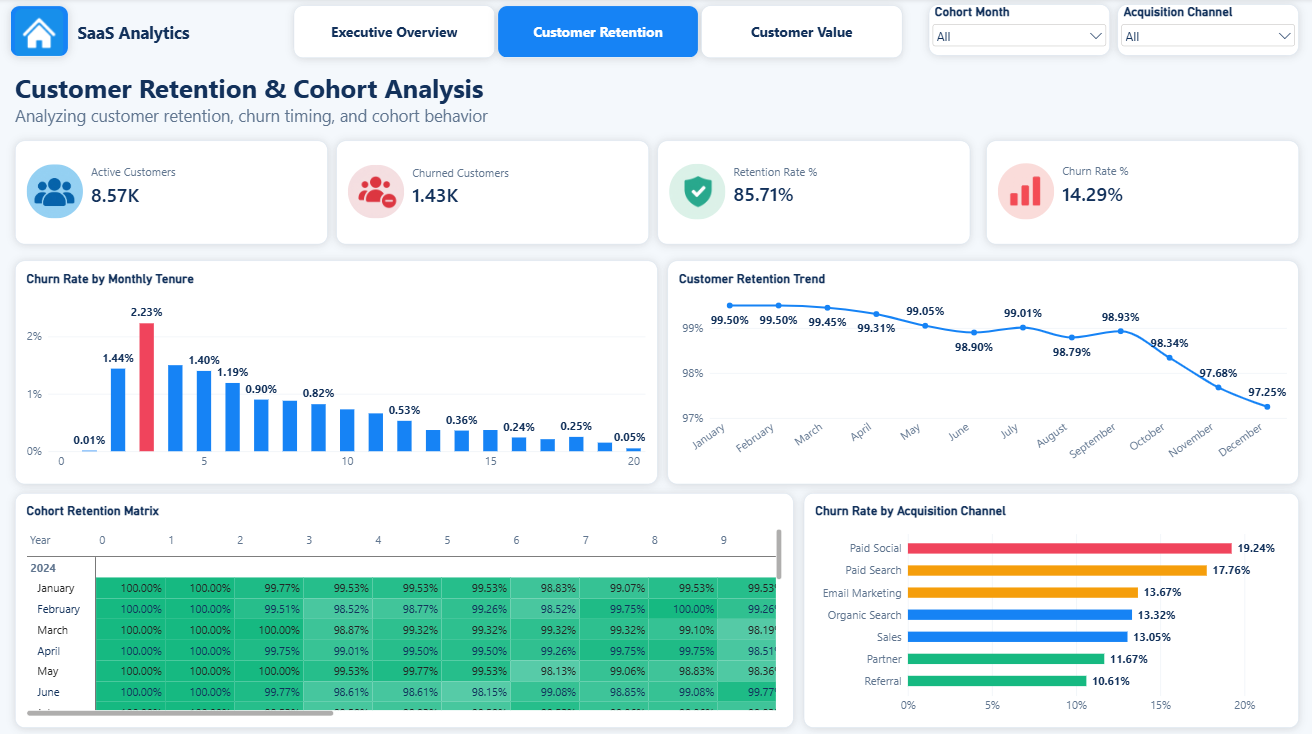

This screenshot's page, from the dashboard's own definition file:
{"tool":"powerbi","page":{"name":"Customer Retention","canvas":[1920,1080],"ordinal":2},"visuals":[{"type":"textbox","box":[29,105,1858.5,88.7],"z":0},{"type":"cardVisual","fields":{"Data":["measures_table.Active Customers"]},"box":[29,206.3,452.4,150.2],"z":1000},{"type":"cardVisual","fields":{"Data":["measures_table.Churned Customers"]},"box":[494,206.3,452.4,150.2],"z":2000},{"type":"cardVisual","fields":{"Data":["measures_table.Retention Rate %"]},"box":[959.1,206.3,452.4,150.2],"z":3000},{"type":"cardVisual","fields":{"Data":["measures_table.Churn Rate %"]},"box":[1435.1,206.3,452.4,150.2],"z":4000},{"type":"clusteredColumnChart","title":"Churn Rate by Monthly Tenure","fields":{"Category":["fact_customer_monthly.tenure_months"],"Y":["measures_table.Churn Rate %"]},"box":[29,380,930.2,323.9],"z":5000},{"type":"lineChart","title":"Customer Retention Trend","fields":{"Category":["fact_customer_monthly.month.Variation.Date Hierarchy.Month"],"Y":["measures_table.Retention Rate %"]},"box":[973.6,380,913.9,323.9],"z":6000},{"type":"pivotTable","title":"Cohort Retention Matrix","fields":{"Rows":["dim_customer.Cohort Month.Variation.Date Hierarchy.Year","dim_customer.Cohort Month.Variation.Date Hierarchy.Month"],"Columns":["fact_customer_monthly.Months Since Cohort"],"Values":["measures_table.Retention Rate %"]},"box":[29,716.6,1127.4,340.2],"z":7000},{"type":"clusteredBarChart","title":"Churn Rate by Acquisition Channel","fields":{"Category":["dim_customer.acquisition_channel"],"Y":["measures_table.Churn Rate %"]},"box":[1170.9,716.6,716.6,340.2],"z":8000},{"type":"slicer","title":"Plan","fields":{"Values":["dim_customer.cohort_month"]},"box":[1351.8,9,262.4,74.2],"z":9000},{"type":"slicer","title":"Plan","fields":{"Values":["dim_customer.acquisition_channel"]},"box":[1625.1,9,262.4,74.2],"z":10000},{"type":"actionButton","box":[432.5,10.9,291.4,76],"z":11000},{"type":"actionButton","box":[727.5,10.9,291.4,76],"z":12000},{"type":"actionButton","box":[1022.5,10.9,291.4,76],"z":13000},{"type":"textbox","box":[119.4,34.4,280.5,48.9],"z":14000},{"type":"actionButton","box":[21.7,10.9,85.1,74.2],"z":15000}]}

Visuals, with their boxes in screenshot pixels (x1, y1, x2, y2), scaled from the page's 1920x1080 canvas onto the 1312x734 screenshot:
textbox: crop(20, 71, 1290, 132)
cardVisual - measures_table.Active Customers: crop(20, 140, 329, 242)
cardVisual - measures_table.Churned Customers: crop(338, 140, 647, 242)
cardVisual - measures_table.Retention Rate %: crop(655, 140, 965, 242)
cardVisual - measures_table.Churn Rate %: crop(981, 140, 1290, 242)
"Churn Rate by Monthly Tenure" clusteredColumnChart: crop(20, 258, 655, 478)
"Customer Retention Trend" lineChart: crop(665, 258, 1290, 478)
"Cohort Retention Matrix" pivotTable: crop(20, 487, 790, 718)
"Churn Rate by Acquisition Channel" clusteredBarChart: crop(800, 487, 1290, 718)
"Plan" slicer: crop(924, 6, 1103, 57)
"Plan" slicer: crop(1110, 6, 1290, 57)
actionButton: crop(296, 7, 495, 59)
actionButton: crop(497, 7, 696, 59)
actionButton: crop(699, 7, 898, 59)
textbox: crop(82, 23, 273, 57)
actionButton: crop(15, 7, 73, 58)
